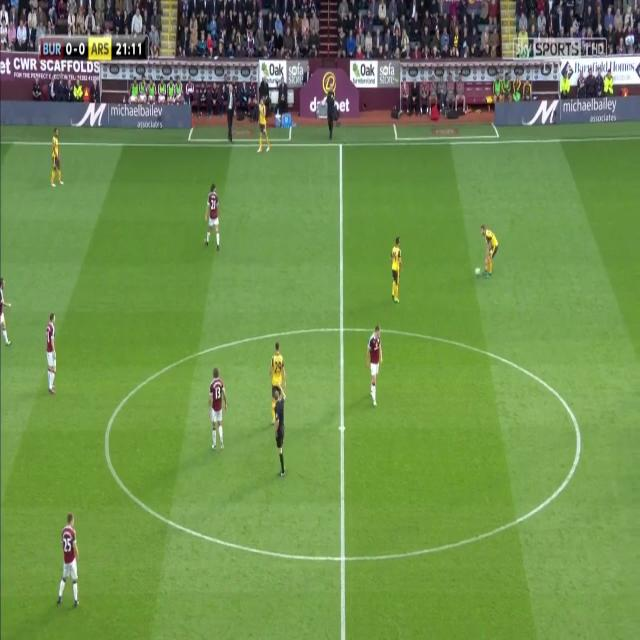Ball: (474, 263, 482, 281)
Player: (57, 511, 80, 608), (206, 366, 230, 454), (366, 325, 386, 410), (42, 311, 61, 398), (202, 180, 222, 254), (269, 341, 286, 423), (478, 220, 501, 280), (388, 235, 404, 306), (253, 99, 272, 158), (0, 275, 15, 349), (50, 127, 64, 191)
Referee: (273, 386, 289, 480)
